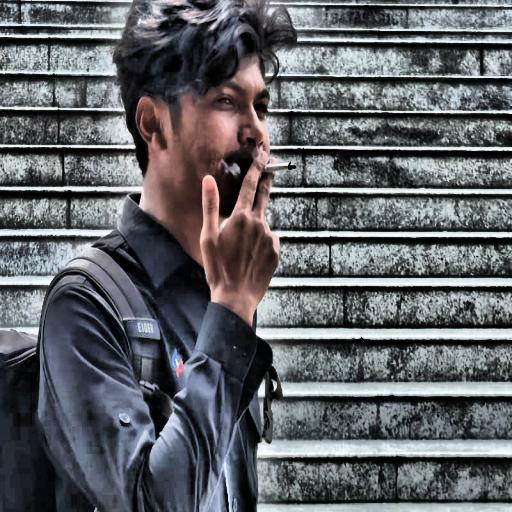Merokok: (264, 162, 296, 172)
Rokok: (134, 57, 278, 321)
